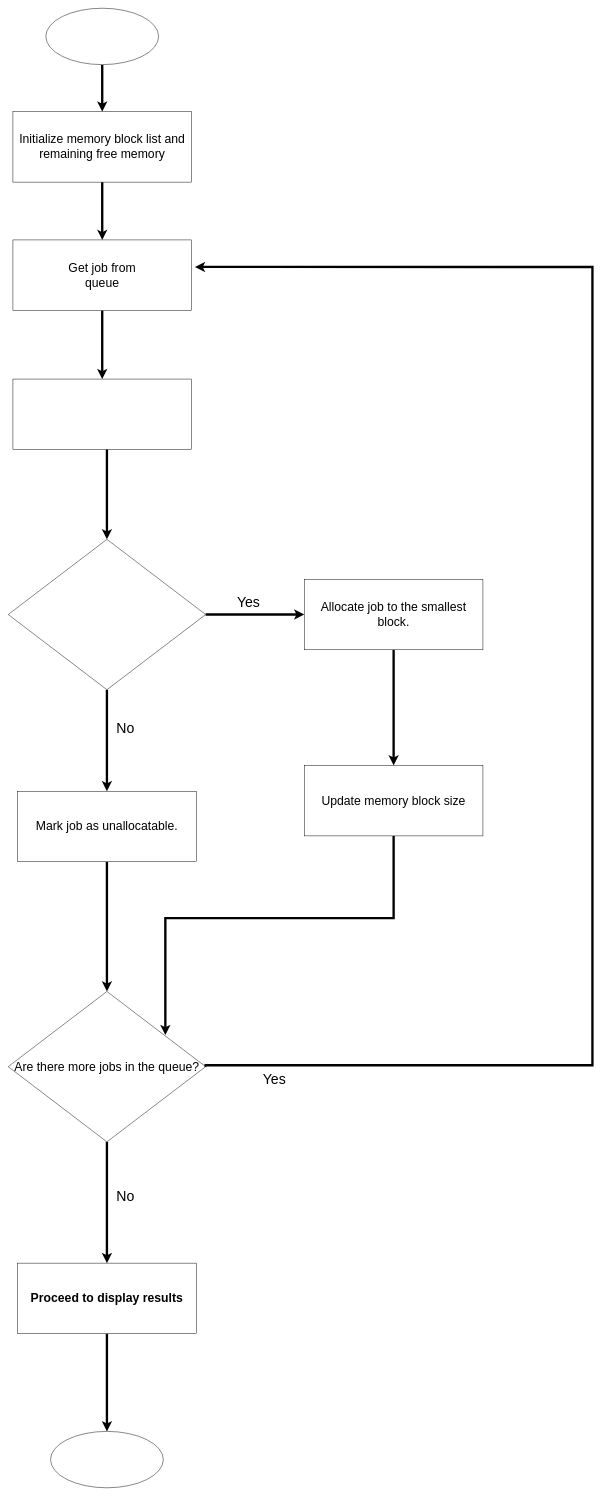
This 605x1496 diagram has some shape labels left out. Here are the shapes that lost their labels. From the top down, the box of each, then its label:
(45, 8, 159, 65): start
(12, 379, 192, 450): Search for the smallest suitable block.
(8, 539, 206, 690): Is a suitable block available?
(50, 1431, 163, 1488): End
